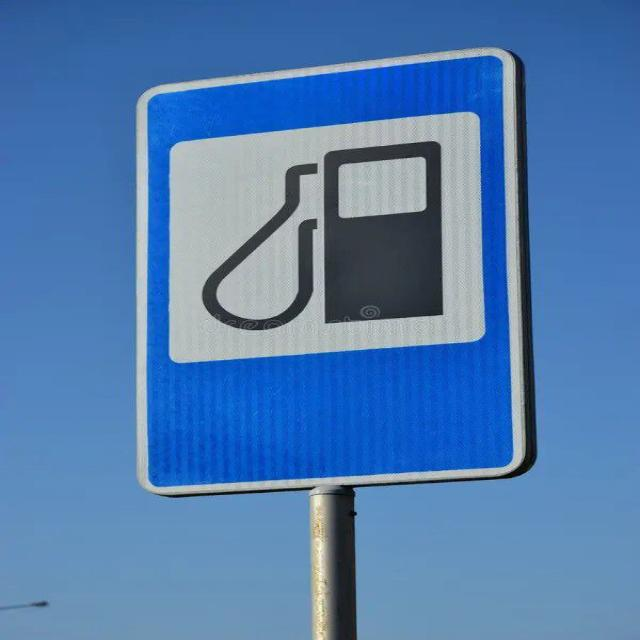petrol_station: (126, 42, 527, 493)
